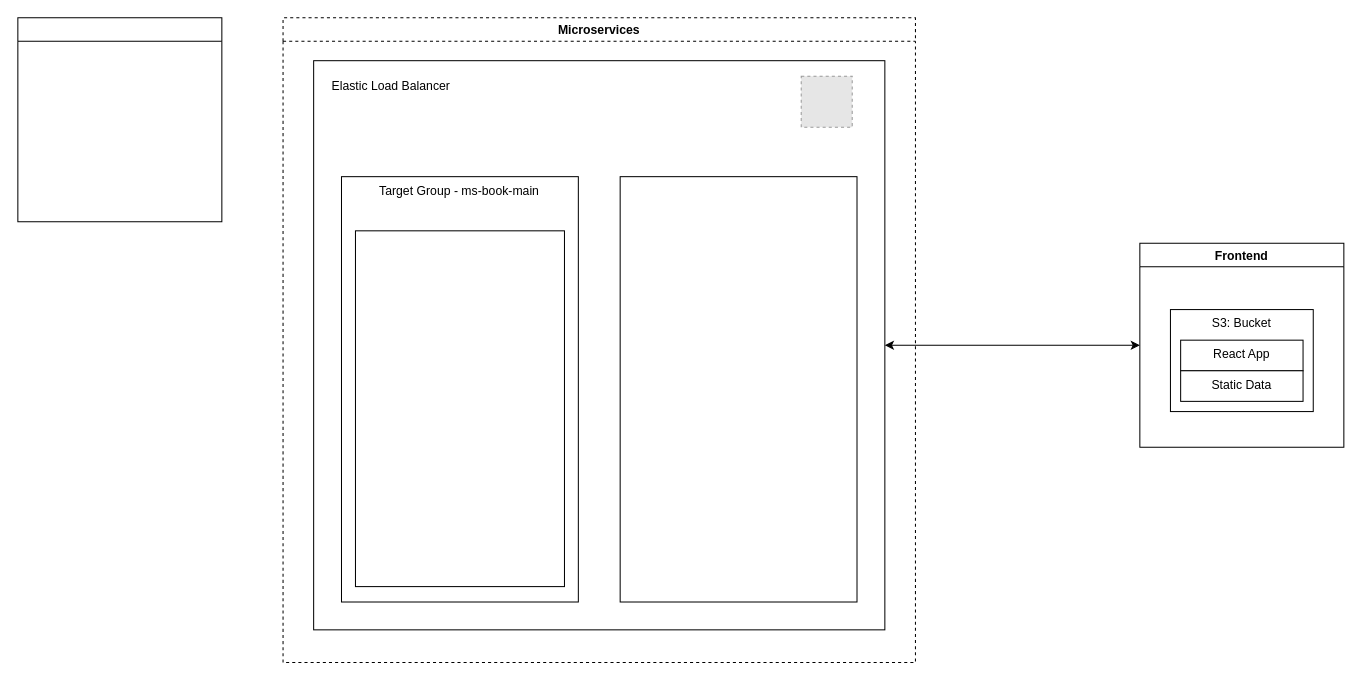
The diagram is 1362 pixels wide and 680 high, and some of its shapes have lost their labels. Grey dashed boxes stand in for pictures. The centre of each missing label's shape, as x and y in pixels:
AWS Fargate: point 459,408
Database: point 119,119
Target Group - ms-login-main: point 738,389
